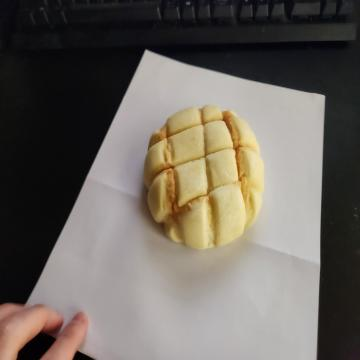melon_bread: (142, 105, 264, 251)
